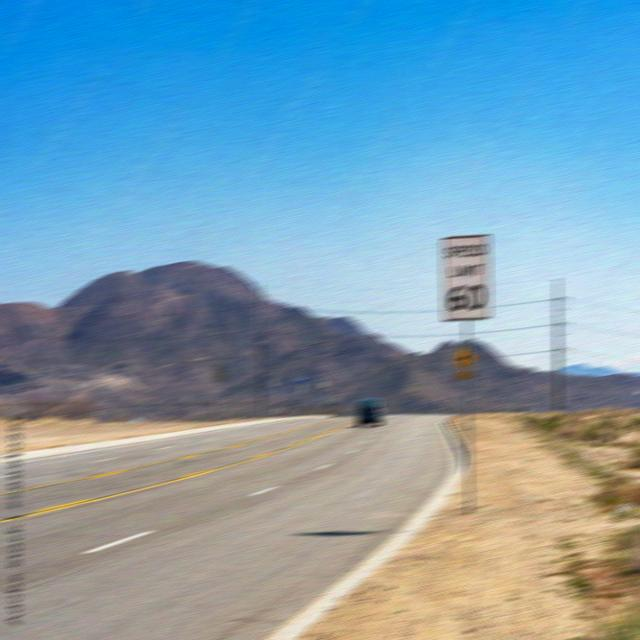speedLimit60: (438, 232, 492, 324)
